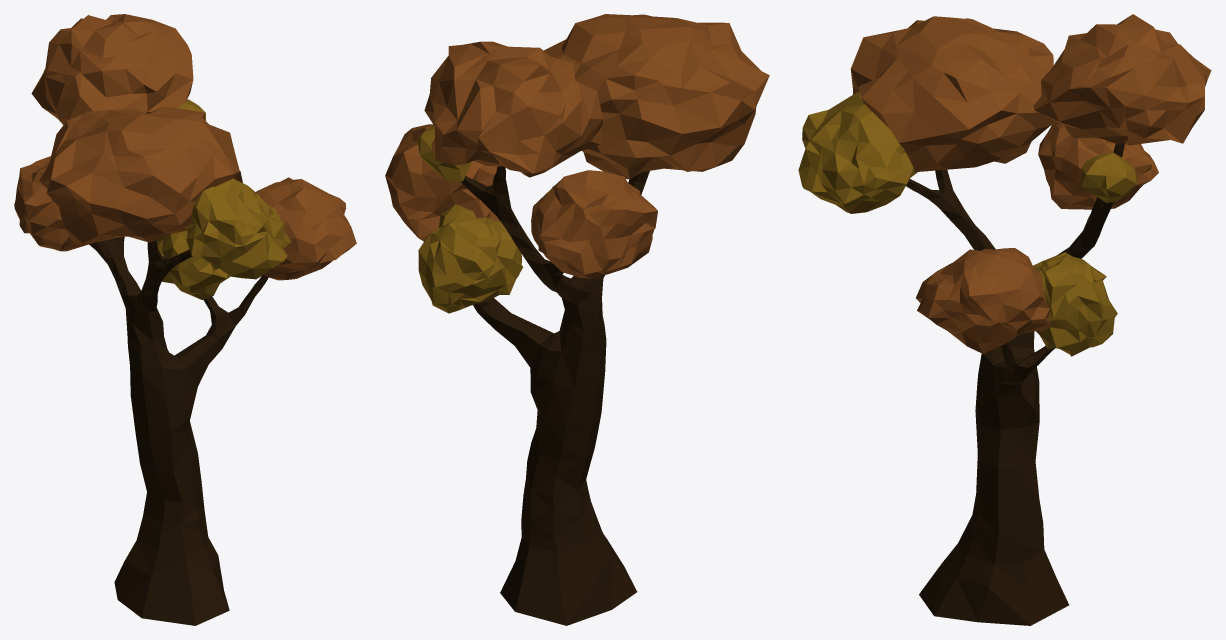
File: common_tree_3_autumn.glb
The picture shows the model from 3 angles, left to right: view 1: azimuth 30°, elevation 25°; view 2: azimuth 150°, elevation 25°; view 3: azimuth 270°, elevation 25°; orthographic projection. The views are drawn at different scales.
Parts seen in each view (by area): view 1: common_tree_3_leaves_dark.001, common_tree_3_trunk.001, common_tree_3_leaves.001; view 2: common_tree_3_leaves_dark.001, common_tree_3_trunk.001, common_tree_3_leaves.001; view 3: common_tree_3_leaves_dark.001, common_tree_3_trunk.001, common_tree_3_leaves.001.
Boxes of the visible parts, x1,y1,x2,y2 form: common_tree_3_leaves_dark.001: (14,14,356,280); common_tree_3_trunk.001: (89,236,268,625); common_tree_3_leaves.001: (157,99,290,299); common_tree_3_leaves_dark.001: (385,14,769,278); common_tree_3_trunk.001: (460,166,649,625); common_tree_3_leaves.001: (417,125,523,313); common_tree_3_leaves_dark.001: (850,14,1211,353); common_tree_3_trunk.001: (906,142,1124,625); common_tree_3_leaves.001: (798,91,1137,356).
Bounding box in the file's own units: 3.65 × 6.04 × 3.97.
